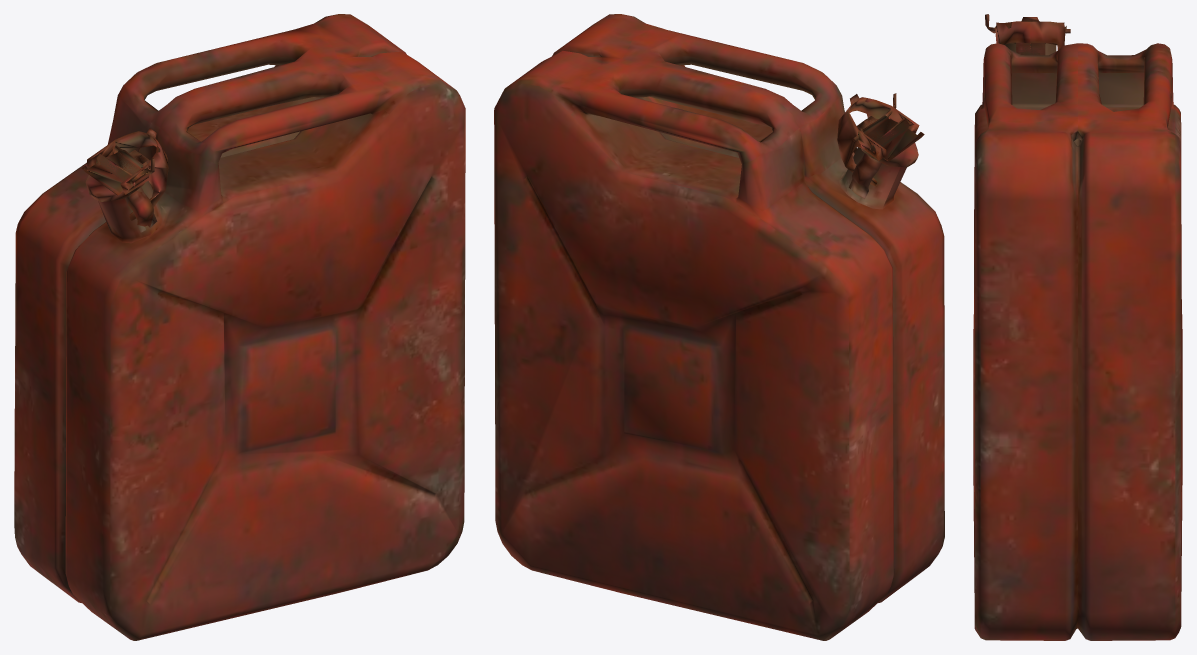
The model's file is metal_jerrycan.glb.
The picture shows the model from 3 angles, left to right: view 1: azimuth 30°, elevation 25°; view 2: azimuth 150°, elevation 25°; view 3: azimuth 270°, elevation 25°; orthographic projection. The views are drawn at different scales.
Visible parts, largest first — view 1: metal_jerrycan; view 2: metal_jerrycan; view 3: metal_jerrycan.
Boxes of the visible parts, x1=… form: metal_jerrycan: x1=14, y1=14, x2=465, y2=640; metal_jerrycan: x1=494, y1=14, x2=944, y2=640; metal_jerrycan: x1=973, y1=14, x2=1182, y2=640.
Bounding box in the file's own units: 0.3497 × 0.4549 × 0.1718.
Materials: 1 (1 with a texture image).
